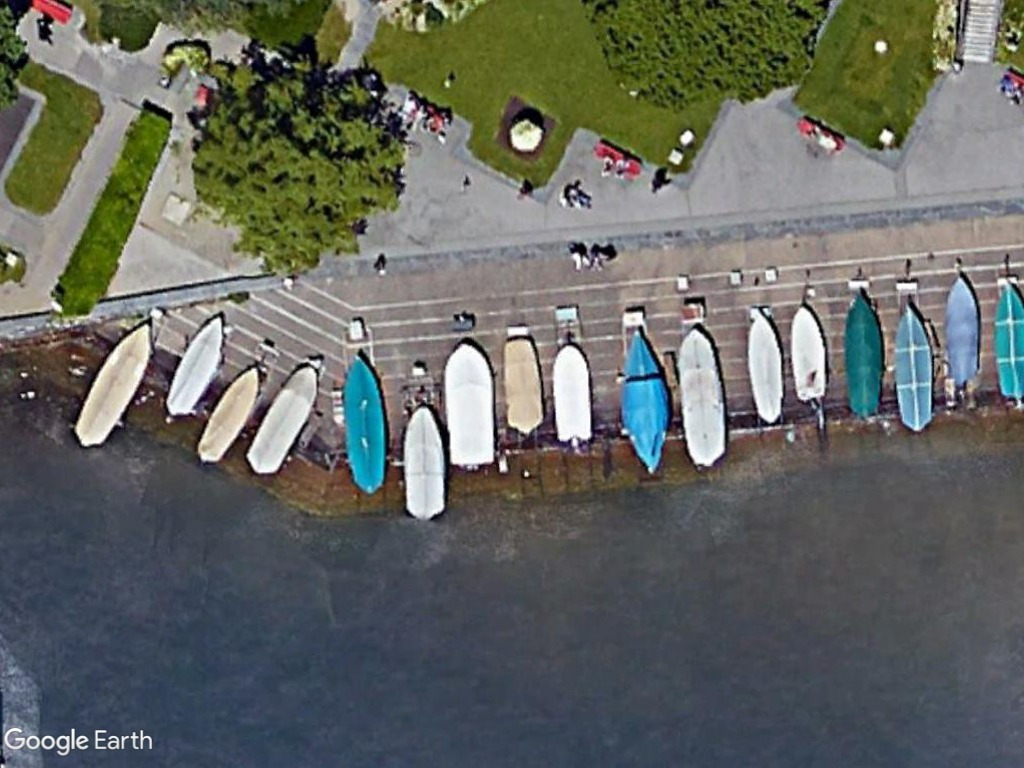boat: (68, 314, 155, 453), (241, 357, 328, 479), (672, 320, 733, 481), (612, 330, 676, 479), (433, 337, 499, 476), (160, 308, 233, 421), (191, 360, 263, 470), (337, 351, 391, 496), (886, 297, 935, 434), (933, 266, 983, 396), (397, 403, 449, 526), (494, 330, 549, 443), (839, 290, 885, 423), (739, 311, 788, 426), (782, 300, 830, 413), (549, 337, 593, 453)
